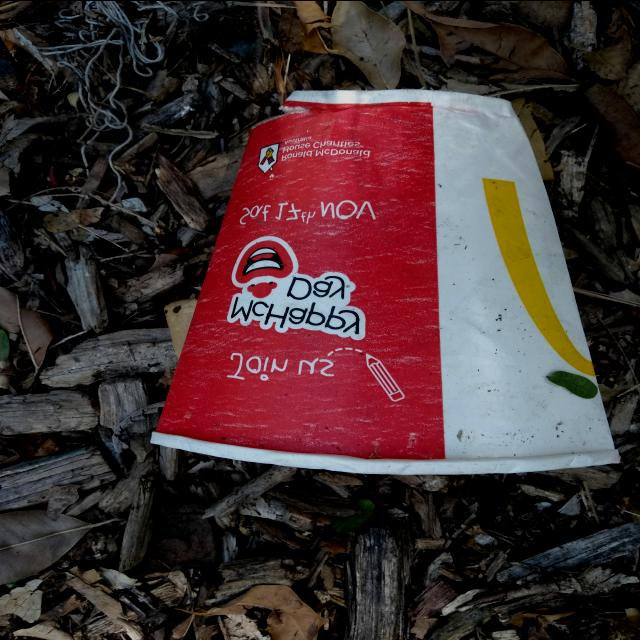Paper cup: (150, 88, 620, 474)
Rope - strings: (34, 0, 209, 201)
